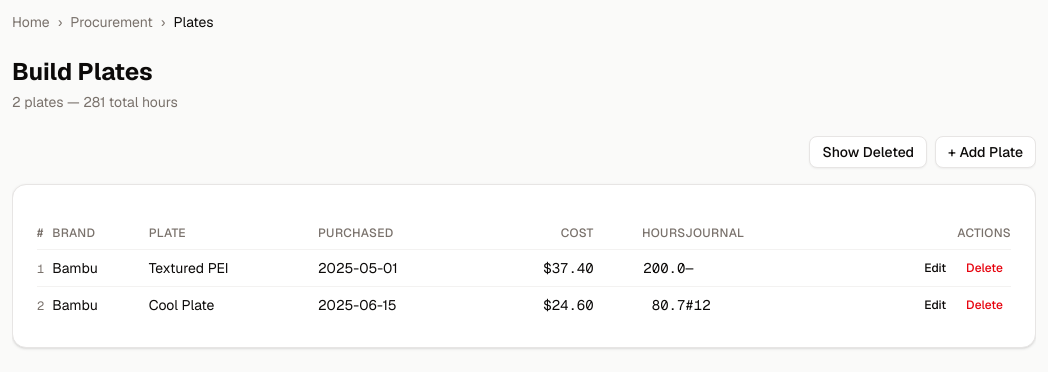
Scenario: PlatesPage › renders the edit form with fromItem conversion (with journalId)
The image size is (1048, 372).
Click the button "Edit" in the row of "Cool Plate": (935, 305) [916,293,954,317]
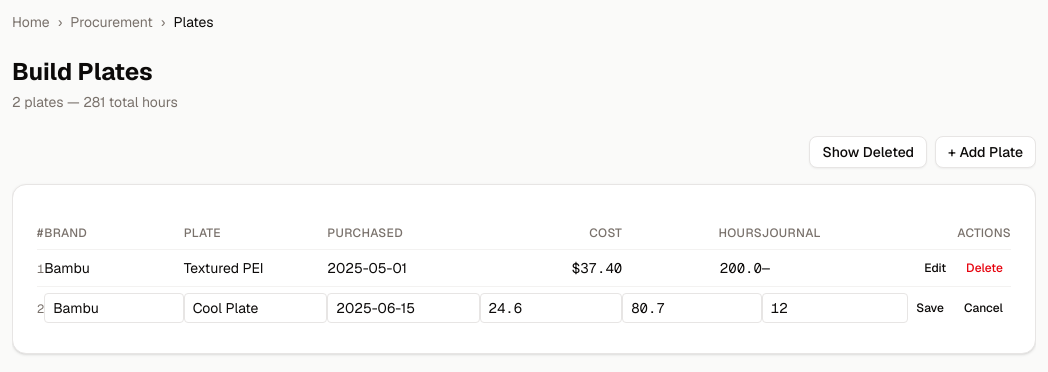
Expected: the 1st field is shown, [44,293,184,323]
